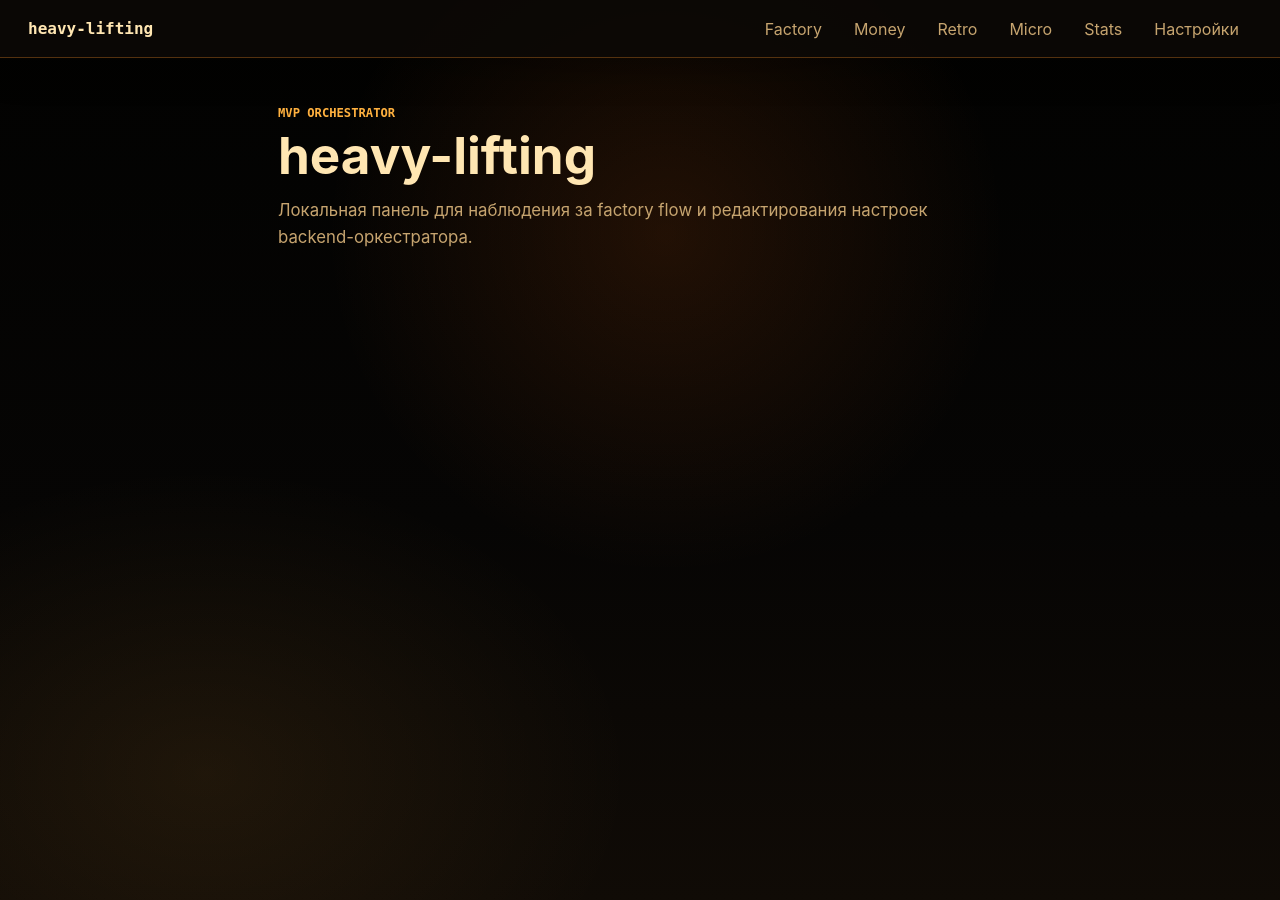
Test: App › opens economics from the topbar and shows loading state
Click the button "Money".
click(880, 28)  # box [841,10,918,48]
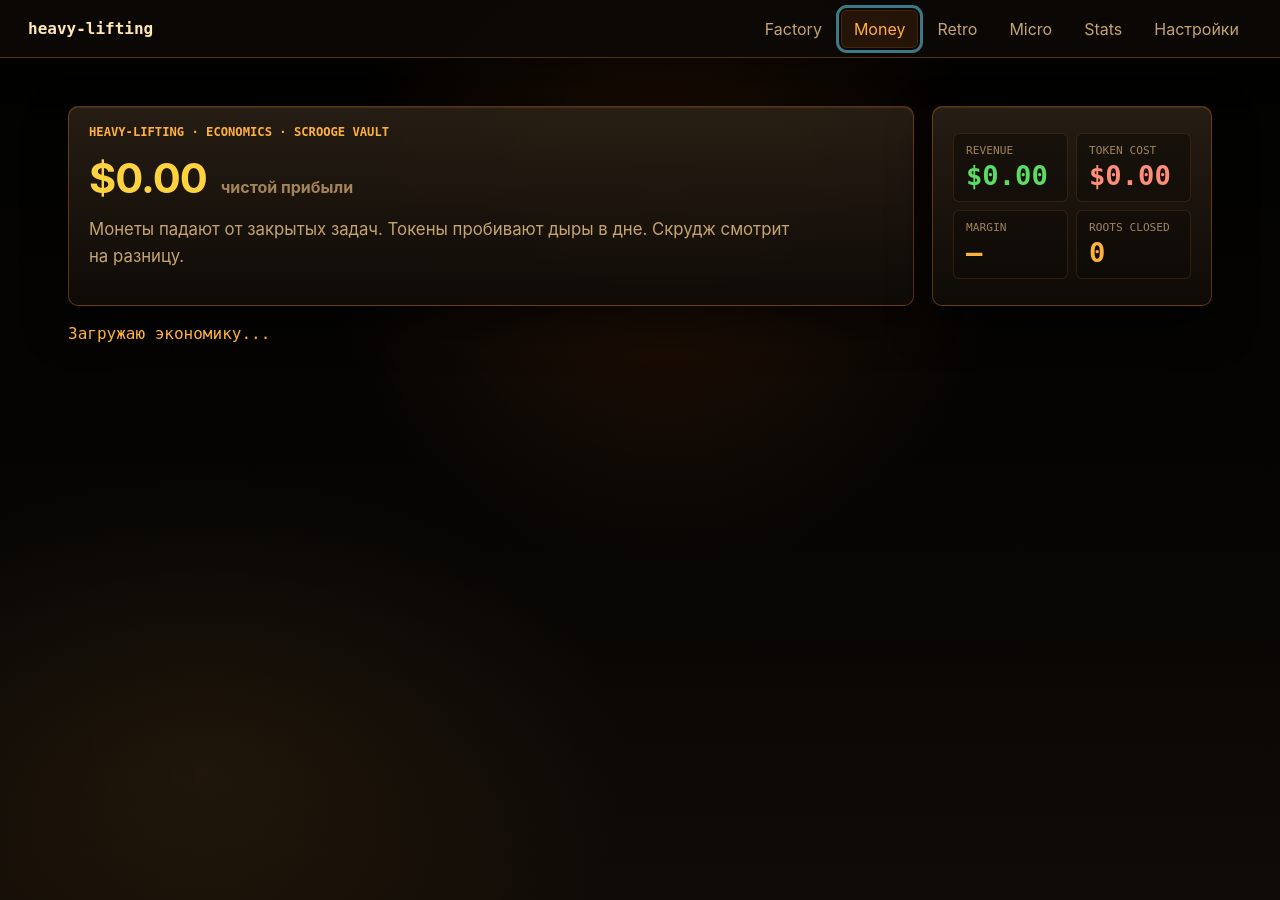
Check: the text "heavy-lifting · economics · scrooge vault" is shown, box [89,125,389,139]
Check: the text "Загружаю экономику..." is shown, box [68,324,270,343]
